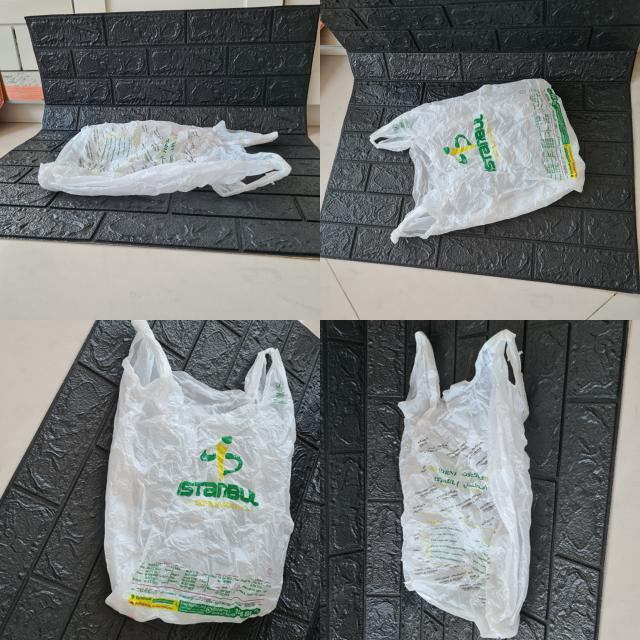Single-layer Plastic: (105, 320, 295, 624), (399, 330, 532, 639), (370, 79, 585, 242), (39, 120, 291, 196)
